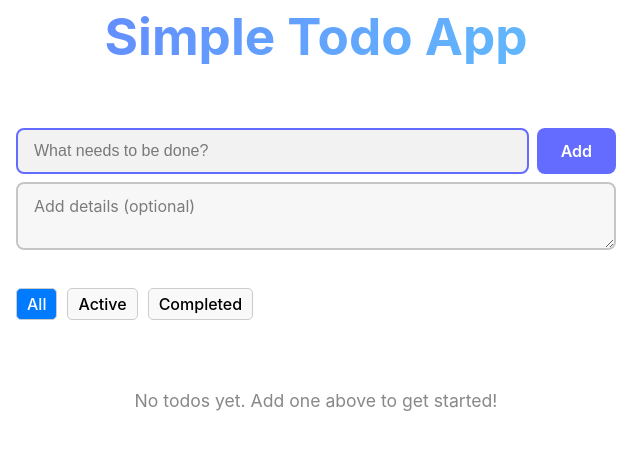
App › prevents adding empty todos
Click the button with aria-label "Add todo".
click(576, 151)  # box [537,128,616,174]
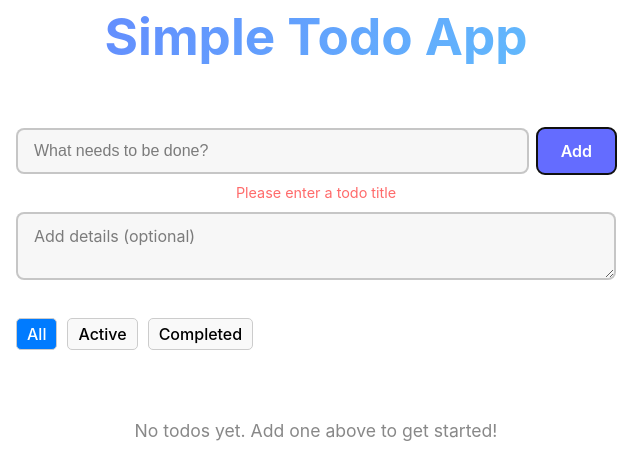
Expected: the text "No todos yet. Add one above to get started!" is shown, [135,420,497,441]
Expected: the text "Please enter a todo title" is shown, [236,184,396,201]
